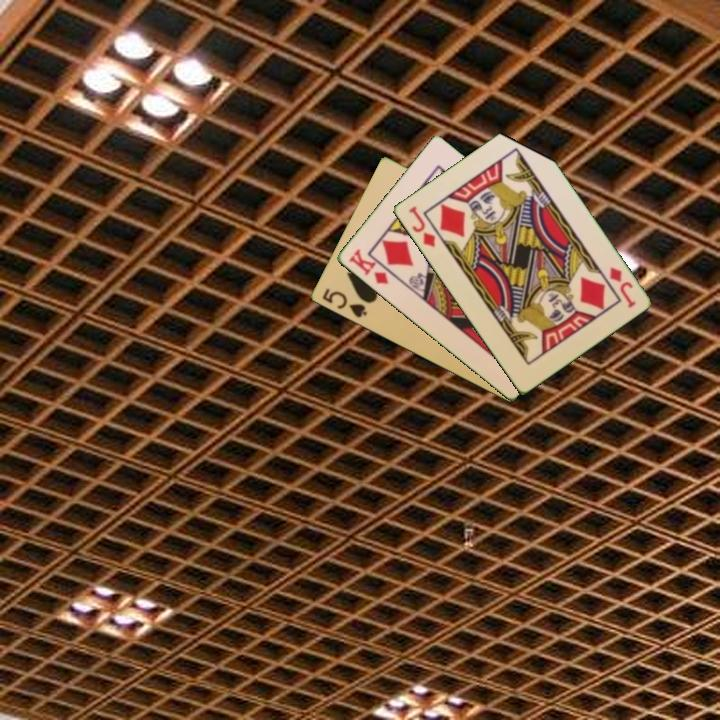5s: (319, 285, 370, 321)
Jd: (405, 202, 438, 250), (605, 263, 638, 311)
Kd: (345, 245, 391, 287)
